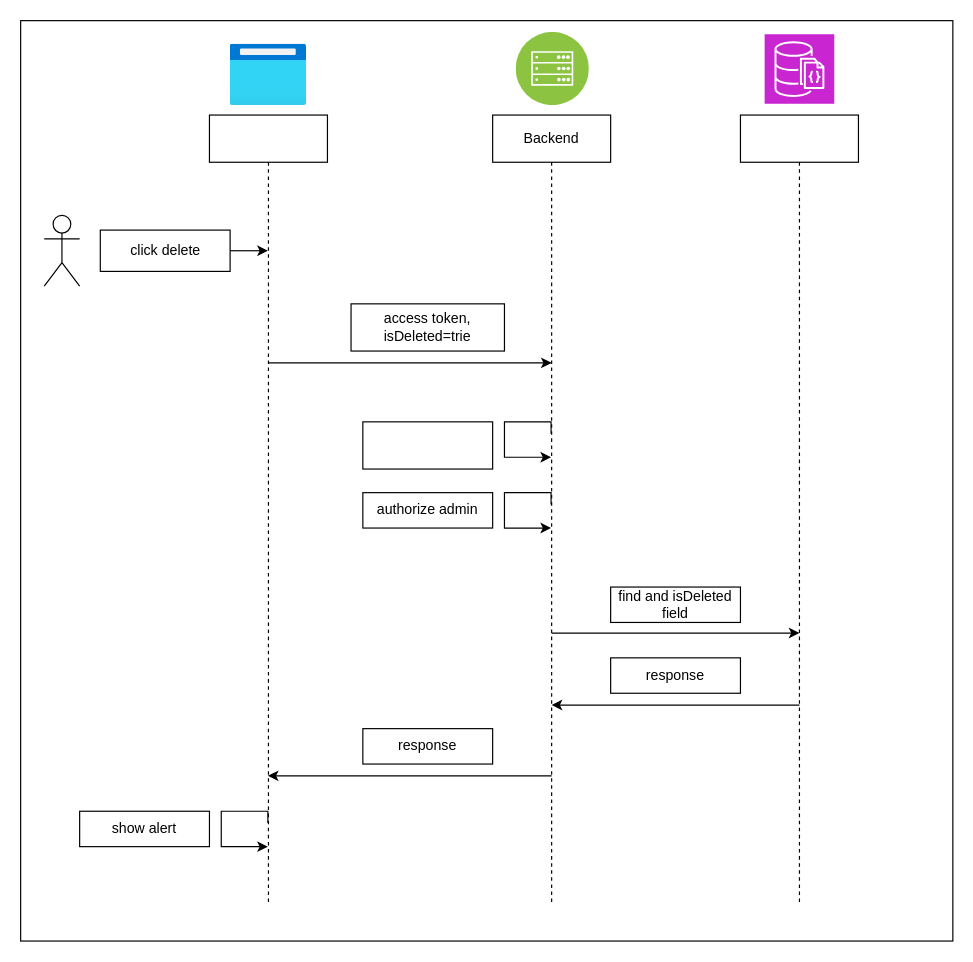
This 973x962 diagram has some shape labels left out. The box of each missing label's shape, as (x1, y1, x2, y2) in pixels:
Admin: (43, 214, 80, 286)
authenticate token: (362, 421, 493, 469)
Database: (739, 114, 858, 906)
Frontend: (208, 114, 327, 906)
